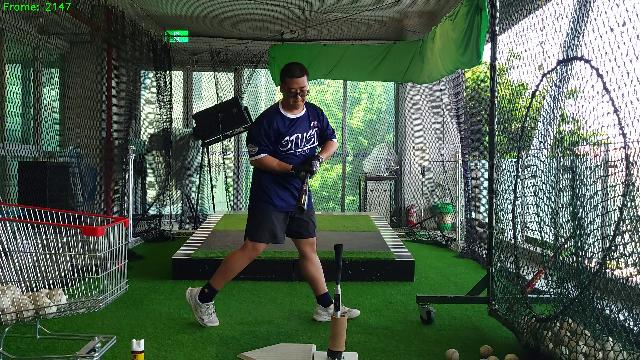bat: (294, 173, 310, 217)
